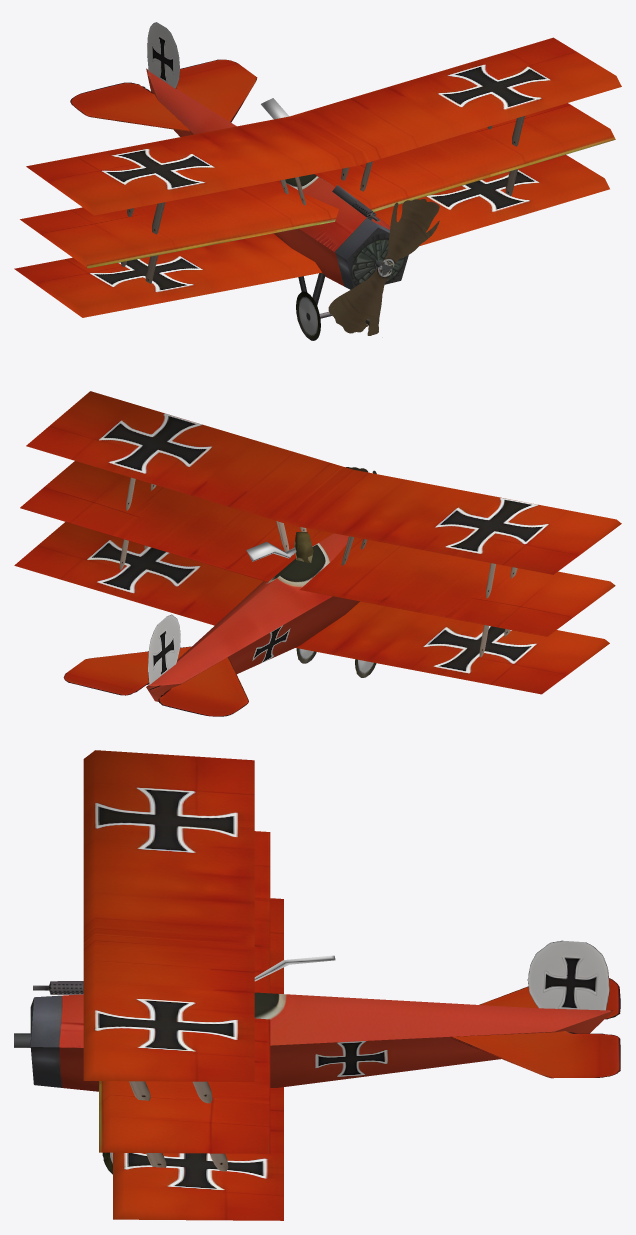
The model's file is fokker.gltf.
3 renders of one model, top to bottom at view 1: azimuth 30°, elevation 25°; view 2: azimuth 150°, elevation 25°; view 3: azimuth 270°, elevation 25°, orthographic. The views are drawn at different scales.
Parts seen in each view (by area): view 1: fokker_atomic2, fokker_atomic1; view 2: fokker_atomic2, fokker_atomic0; view 3: fokker_atomic2.
Boxes of the visible parts, left/top/right/bottom form: fokker_atomic2: left=14, top=22, right=621, bottom=340; fokker_atomic1: left=328, top=199, right=439, bottom=335; fokker_atomic2: left=14, top=391, right=621, bottom=716; fokker_atomic0: left=246, top=542, right=296, bottom=561; fokker_atomic2: left=14, top=750, right=620, bottom=1220.
Bounding box in the file's own units: 22.48 × 8.26 × 17.94.
7 materials, 6 textured.
